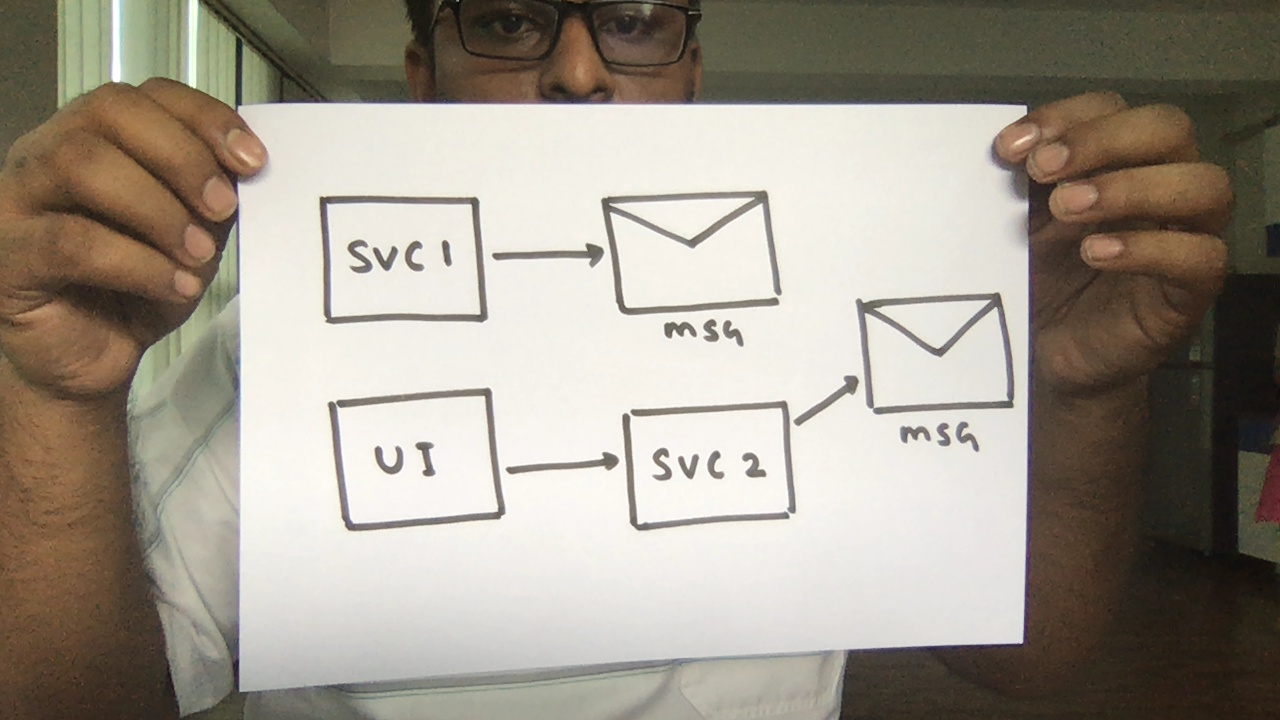arrow: (486, 226, 609, 283), (506, 439, 623, 497), (790, 367, 872, 439)
ec2: (614, 400, 806, 535), (315, 187, 494, 331)
sns: (597, 184, 798, 342), (847, 285, 1022, 452)
ui: (321, 382, 519, 536)
